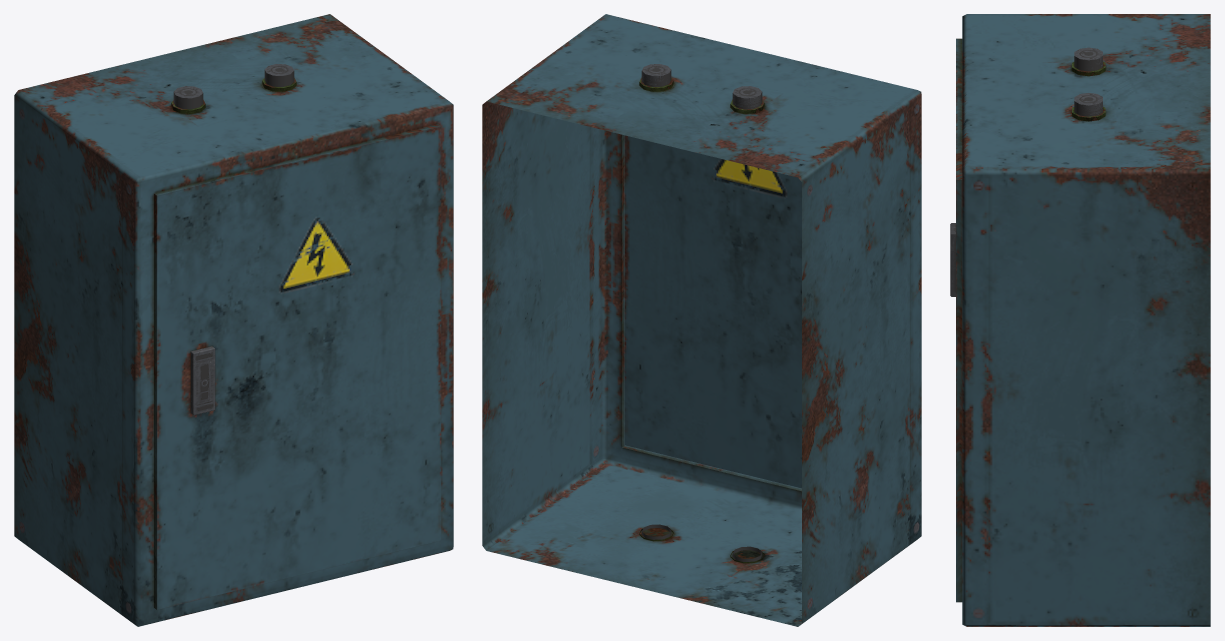
Rendered from Electr_box2B.fbx.
The picture shows the model from 3 angles, left to right: view 1: azimuth 30°, elevation 25°; view 2: azimuth 150°, elevation 25°; view 3: azimuth 270°, elevation 25°; orthographic projection.
Parts seen in each view (by area): view 1: polySurface333; view 2: polySurface333; view 3: polySurface333.
Boxes of the visible parts, left/top/right/bottom form: polySurface333: left=14, top=14, right=453, bottom=626; polySurface333: left=482, top=14, right=921, bottom=626; polySurface333: left=950, top=14, right=1210, bottom=626.
Size of the model in its own units: 48.15 by 68.96 by 33.3.
